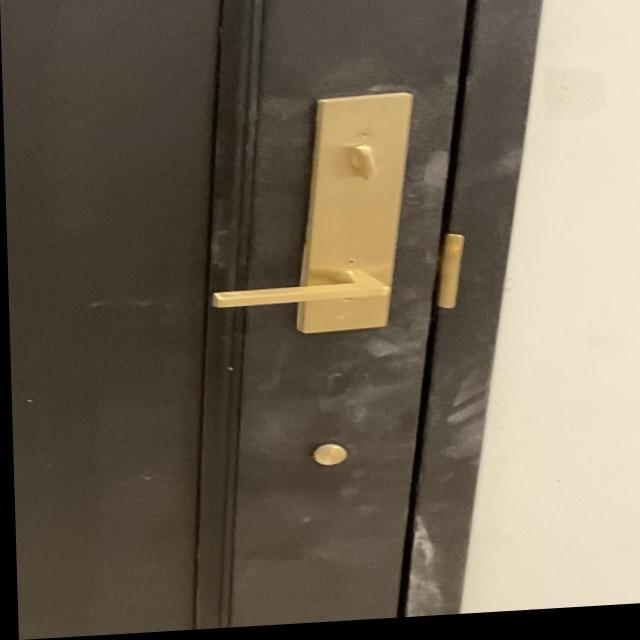door_handle: (188, 254, 411, 328)
